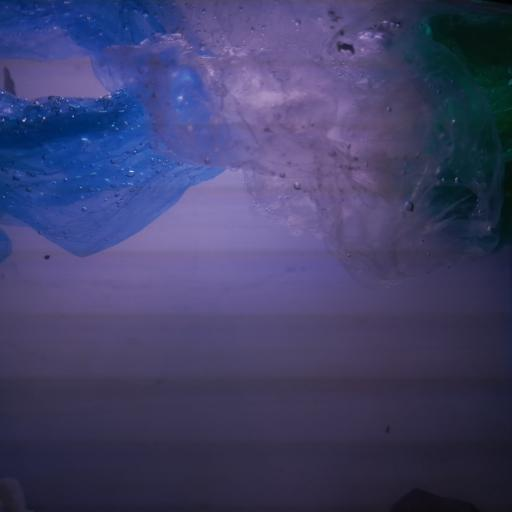plastic_bag: (121, 8, 503, 294), (0, 0, 224, 267), (393, 0, 512, 260)
